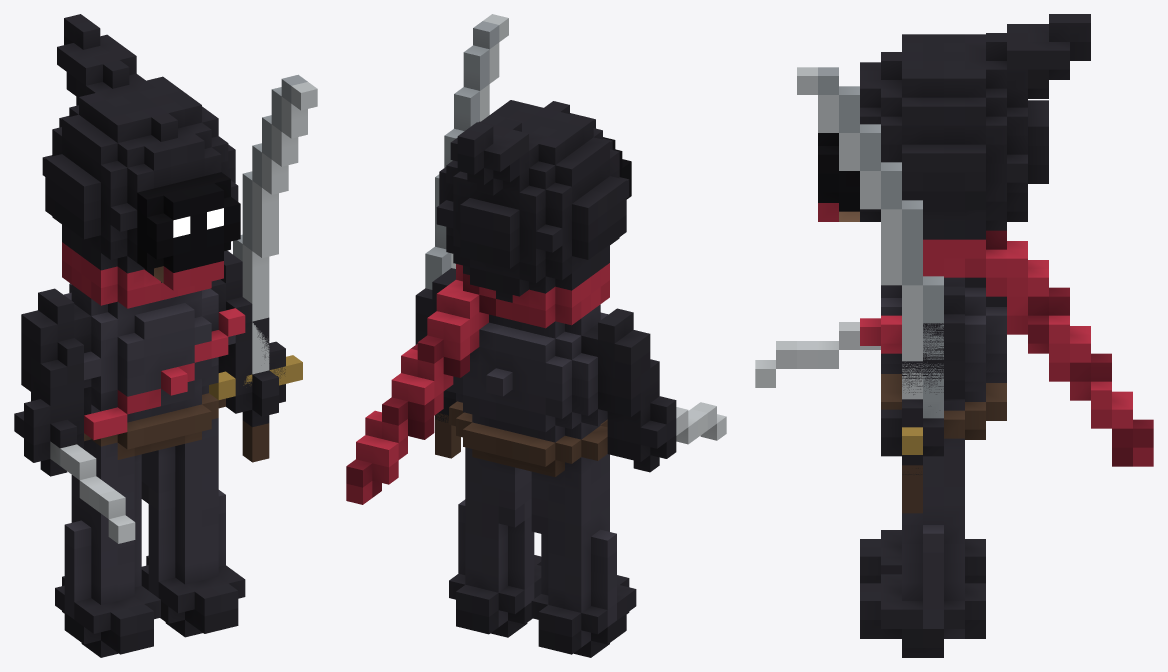
File: u_lame.glb
3 views of the same model, side by side, from view 1: azimuth 30°, elevation 25°; view 2: azimuth 150°, elevation 25°; view 3: azimuth 270°, elevation 25° (orthographic). The views are drawn at different scales.
Parts seen in each view (by area): view 1: lame_body, lame_weapon, lame_glow; view 2: lame_body, lame_weapon; view 3: lame_body, lame_weapon.
Boxes of the visible parts, x1,y1,x2,y2 form: lame_body: (14, 14, 285, 657); lame_weapon: (209, 74, 317, 462); lame_glow: (173, 208, 223, 237); lame_body: (346, 100, 726, 657); lame_weapon: (425, 14, 508, 458); lame_body: (755, 14, 1153, 657); lame_weapon: (797, 67, 943, 513).
Bounding box in the file's own units: 0.8 × 1.6 × 0.95.
